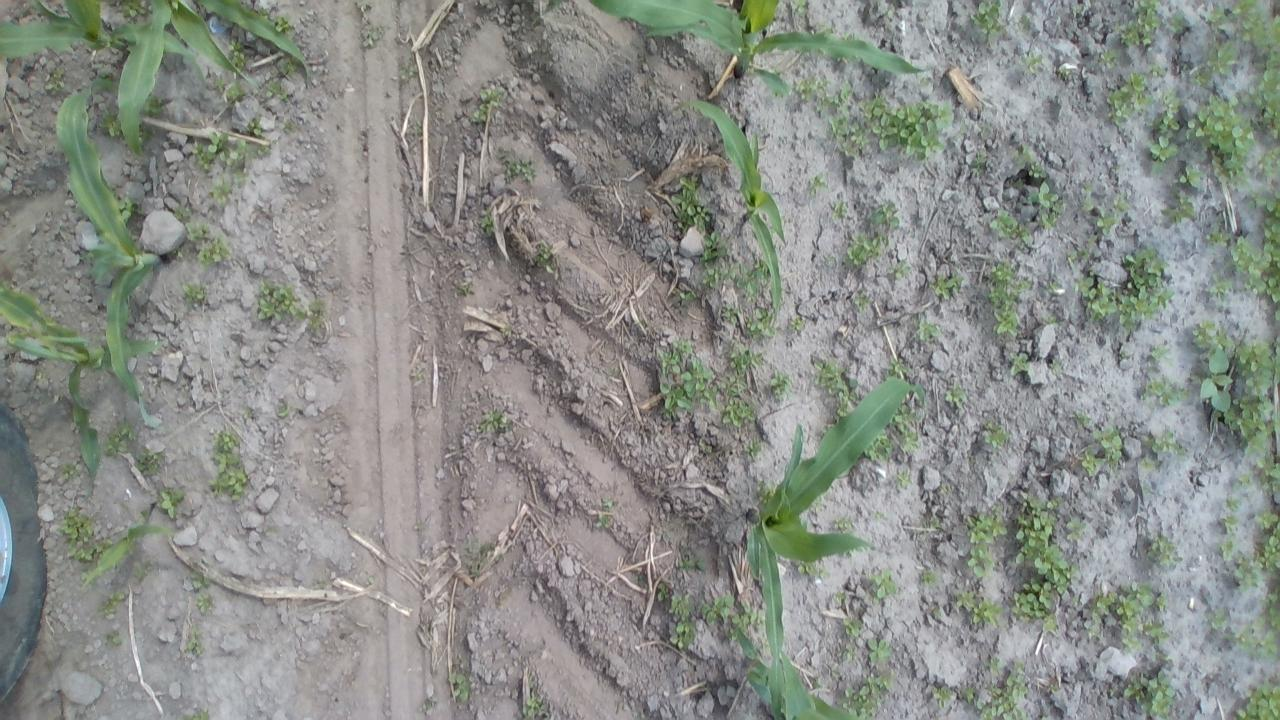Maize: (746, 376, 925, 719), (57, 77, 165, 404), (0, 286, 160, 497), (590, 0, 928, 93), (120, 0, 310, 156), (673, 99, 784, 312), (737, 626, 846, 720), (82, 502, 182, 584), (1, 0, 108, 49)
Weeds: (1192, 322, 1280, 447), (1013, 494, 1074, 595), (1188, 93, 1256, 182), (862, 95, 952, 157), (1088, 582, 1167, 646), (1118, 243, 1174, 328), (654, 336, 710, 410), (1232, 220, 1280, 299), (986, 260, 1026, 336), (1244, 55, 1280, 136), (1124, 668, 1180, 718), (1009, 580, 1058, 634), (838, 670, 892, 718), (977, 670, 1026, 720), (1150, 85, 1182, 158), (1236, 6, 1280, 54), (1200, 344, 1230, 413), (1108, 75, 1152, 122), (1232, 677, 1280, 720), (1073, 276, 1118, 321), (208, 453, 250, 499), (816, 364, 852, 416), (676, 175, 710, 230), (258, 278, 298, 322), (848, 228, 896, 264), (962, 509, 1008, 545), (666, 595, 694, 650), (1232, 624, 1280, 656), (696, 588, 730, 628), (499, 148, 536, 182), (1141, 376, 1185, 404), (104, 421, 137, 457), (1235, 557, 1272, 588), (61, 507, 92, 542), (968, 548, 1001, 580), (724, 395, 754, 430), (1255, 450, 1280, 492), (473, 84, 502, 120), (739, 262, 770, 295), (1038, 182, 1062, 224), (1256, 530, 1280, 572), (1166, 190, 1196, 223), (1207, 40, 1237, 72), (972, 4, 1006, 32), (744, 307, 776, 336), (460, 539, 489, 571), (969, 599, 1004, 625), (1257, 142, 1279, 183), (1148, 535, 1176, 567), (200, 238, 232, 266), (866, 202, 900, 228), (157, 491, 187, 520), (829, 109, 859, 136), (796, 71, 826, 96), (901, 432, 928, 459), (736, 602, 764, 628), (994, 212, 1024, 236), (1098, 429, 1122, 459), (866, 638, 891, 666), (703, 230, 725, 261), (448, 672, 470, 703), (182, 282, 212, 304), (937, 269, 960, 297), (894, 406, 920, 430), (1195, 322, 1226, 342), (524, 690, 546, 718), (1259, 187, 1280, 216), (1152, 430, 1182, 450), (193, 146, 216, 172), (1121, 26, 1152, 45), (114, 0, 146, 18), (1140, 4, 1162, 30), (1202, 10, 1228, 32), (1266, 587, 1280, 627), (770, 367, 789, 396), (99, 112, 120, 138), (66, 546, 100, 562), (1094, 212, 1122, 231), (945, 380, 968, 403), (984, 422, 1008, 444), (874, 572, 896, 596), (834, 192, 853, 219), (596, 500, 614, 528), (1010, 351, 1030, 376), (187, 220, 212, 240), (101, 592, 127, 611), (1208, 272, 1230, 294), (212, 181, 232, 204), (870, 437, 888, 462), (480, 410, 502, 430), (138, 452, 158, 474), (829, 86, 853, 104), (1256, 511, 1280, 529), (1210, 610, 1230, 631), (207, 132, 228, 152), (1180, 165, 1199, 187), (1152, 339, 1171, 361), (1083, 452, 1099, 478), (701, 270, 724, 288), (1079, 181, 1092, 212), (892, 256, 912, 276), (1046, 273, 1062, 298), (1068, 520, 1088, 540), (228, 40, 246, 62), (216, 432, 238, 450), (1017, 148, 1040, 165), (756, 478, 772, 502), (972, 151, 992, 170), (49, 70, 67, 90), (362, 28, 380, 48), (732, 350, 754, 366), (858, 289, 878, 306), (844, 619, 864, 636), (218, 150, 238, 167), (144, 97, 164, 114), (804, 174, 825, 190), (196, 595, 212, 616), (236, 138, 248, 166), (1028, 50, 1043, 72), (1069, 408, 1091, 423), (1220, 515, 1238, 533), (796, 560, 816, 576), (684, 558, 708, 571), (1208, 230, 1230, 244), (954, 589, 972, 606), (118, 198, 152, 207), (919, 320, 938, 336), (1222, 541, 1238, 560), (228, 88, 246, 104), (1102, 48, 1118, 66), (1028, 162, 1046, 178), (840, 138, 858, 154), (481, 216, 493, 240), (934, 685, 950, 703), (192, 574, 210, 590), (982, 657, 1001, 672), (922, 516, 942, 530), (1142, 453, 1158, 470), (788, 314, 806, 329), (896, 468, 909, 488), (1152, 64, 1168, 80), (212, 72, 226, 90), (183, 711, 210, 720), (264, 82, 284, 94), (1112, 194, 1128, 209), (188, 630, 200, 650), (136, 566, 152, 581), (246, 120, 262, 134), (1238, 473, 1252, 489), (1196, 74, 1212, 87), (1229, 499, 1245, 512), (535, 248, 549, 262), (310, 316, 324, 330), (256, 144, 271, 157), (1072, 246, 1084, 262), (873, 510, 889, 522), (816, 566, 832, 578), (310, 303, 324, 316), (276, 15, 288, 30), (922, 569, 938, 580), (834, 518, 850, 529), (748, 442, 762, 454), (278, 404, 290, 418), (107, 632, 121, 644), (680, 290, 691, 304), (845, 642, 856, 656), (656, 586, 666, 601), (458, 283, 471, 294), (835, 591, 849, 601), (286, 121, 296, 135), (1060, 69, 1073, 79), (62, 463, 76, 472), (286, 60, 296, 70), (936, 483, 946, 492)
